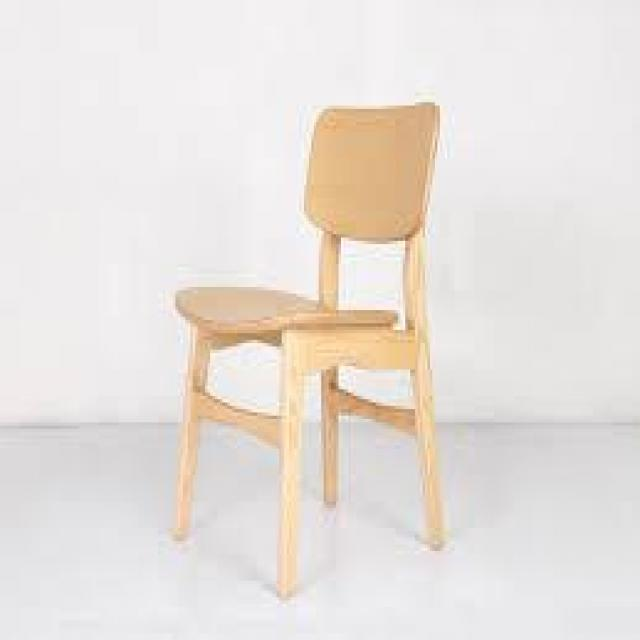chair: (150, 63, 497, 600)
